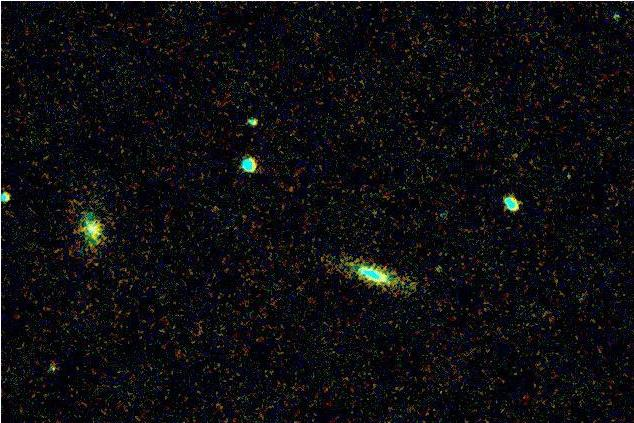star: (425, 253, 455, 283)
